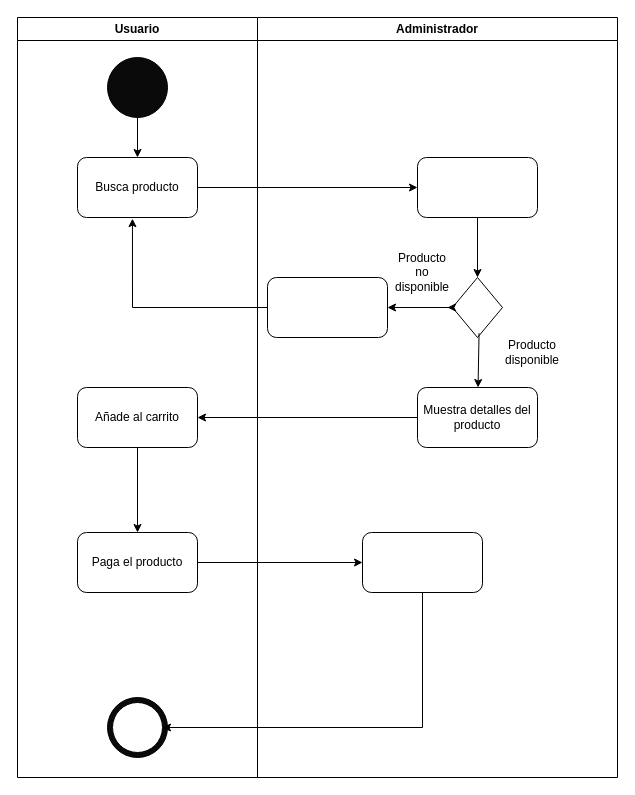
This 635x795 diagram has some shape labels left out. Here are the shapes that lost their labels. From the top down, the centre of each, then its label:
At (477,187): "Comprueba disponibilidad del producto".
At (327,307): "Se informa al usuario".
At (422,562): "Se genera el pedido".
